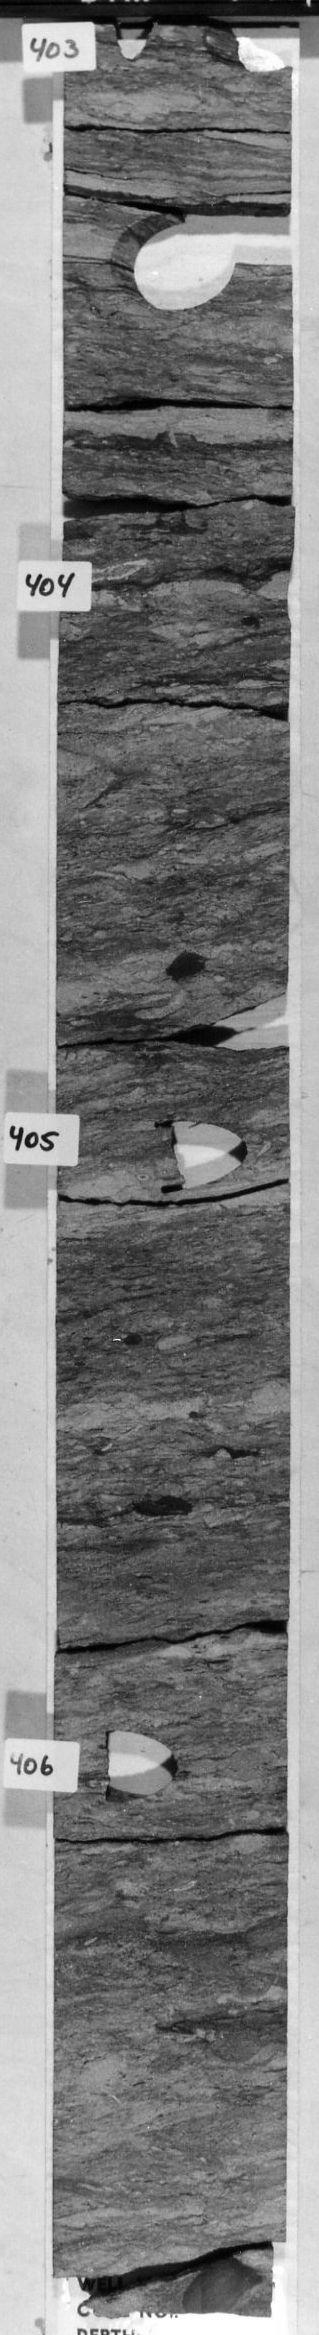hplug: (145, 1106, 253, 1200), (83, 1718, 186, 1812), (206, 24, 288, 77)
scal: (98, 206, 240, 311)
vplug: (107, 24, 159, 64)
